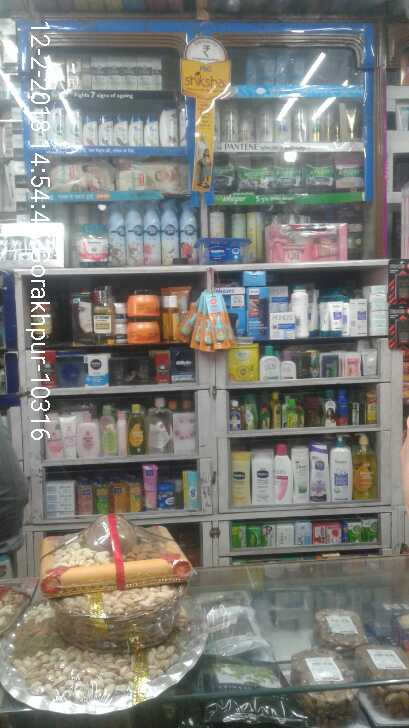ambipureVesus: (181, 197, 200, 263), (161, 201, 181, 263), (109, 201, 127, 266), (127, 201, 145, 265), (145, 201, 161, 265)
venus: (247, 49, 275, 85), (277, 47, 304, 84)
